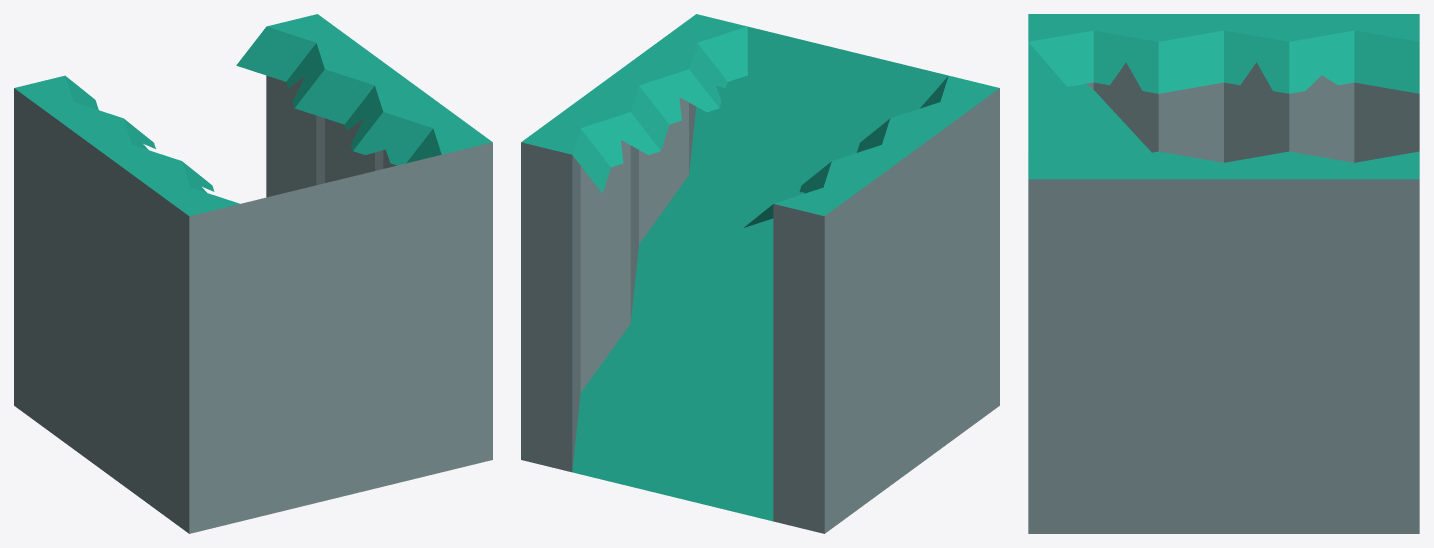
File: cliff_blockSlopeWalls_stone.glb
3 views of the same model, side by side, from view 1: azimuth 30°, elevation 25°; view 2: azimuth 150°, elevation 25°; view 3: azimuth 270°, elevation 25° (orthographic). The views are drawn at different scales.
Visible parts, largest first — view 1: cliff_blockSlopeWalls_stone; view 2: cliff_blockSlopeWalls_stone; view 3: cliff_blockSlopeWalls_stone.
Part boxes in pixels (x1,y1,x2,y2): cliff_blockSlopeWalls_stone: (14, 14, 492, 533); cliff_blockSlopeWalls_stone: (521, 14, 999, 533); cliff_blockSlopeWalls_stone: (1028, 14, 1419, 533).
Size of the model in its own units: 1.16 by 1.16 by 1.16.
